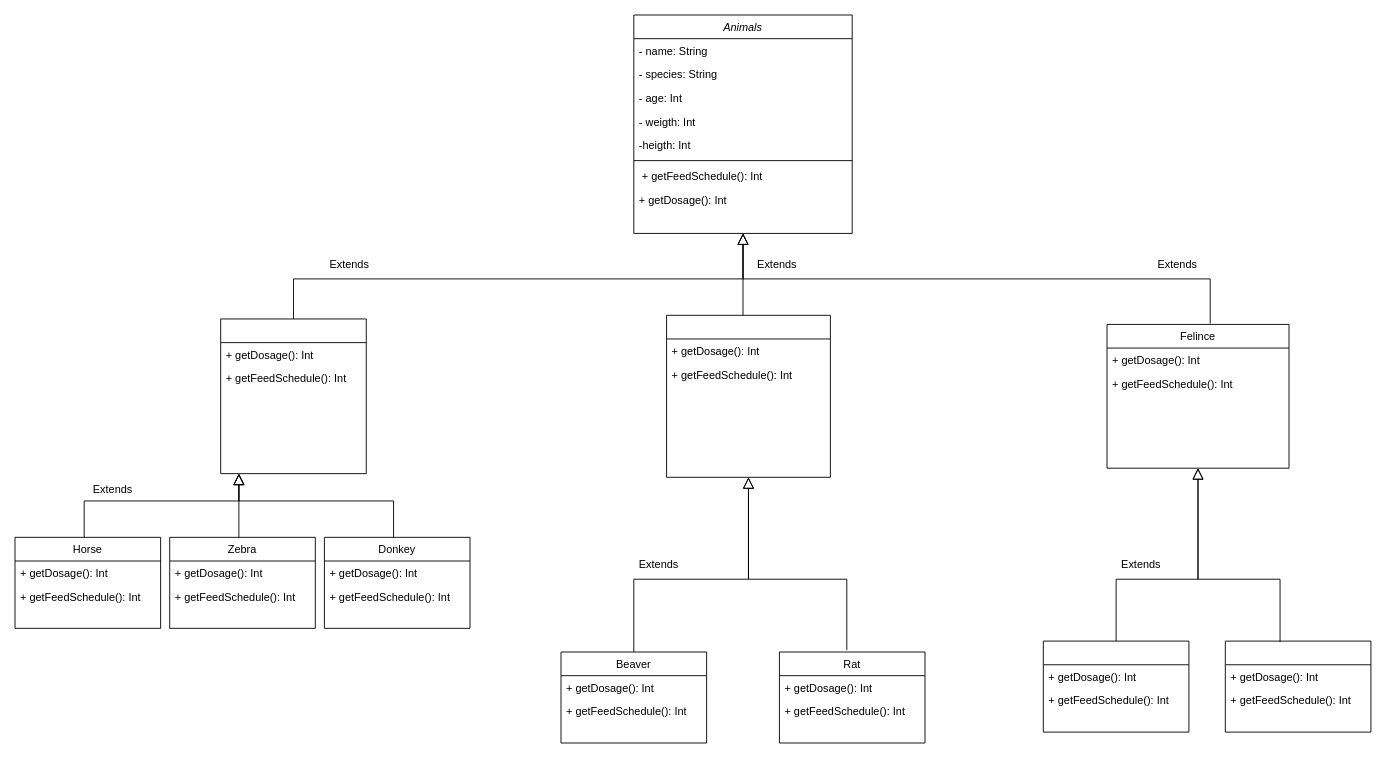
The diagram is 1386 pixels wide and 758 high, and some of its shapes have lost their labels. The box of each missing label's shape, as (x1, y1, x2, y2) in pixels:
Horses: (220, 318, 366, 474)
Lion: (1042, 640, 1189, 732)
Rodent: (666, 314, 830, 477)
Tiger: (1224, 640, 1371, 732)
